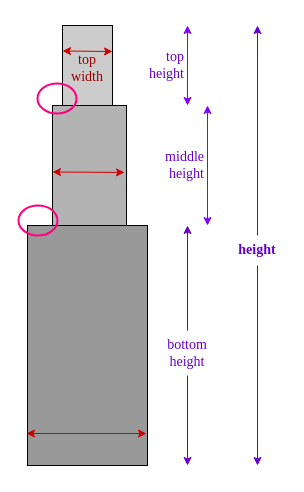
The diagram is 304 pixels wide and 492 high, and some of its shapes have lost their labels. Each missing label, with the centre of its shape:
middle width: point 89,165
width: point 87,345
